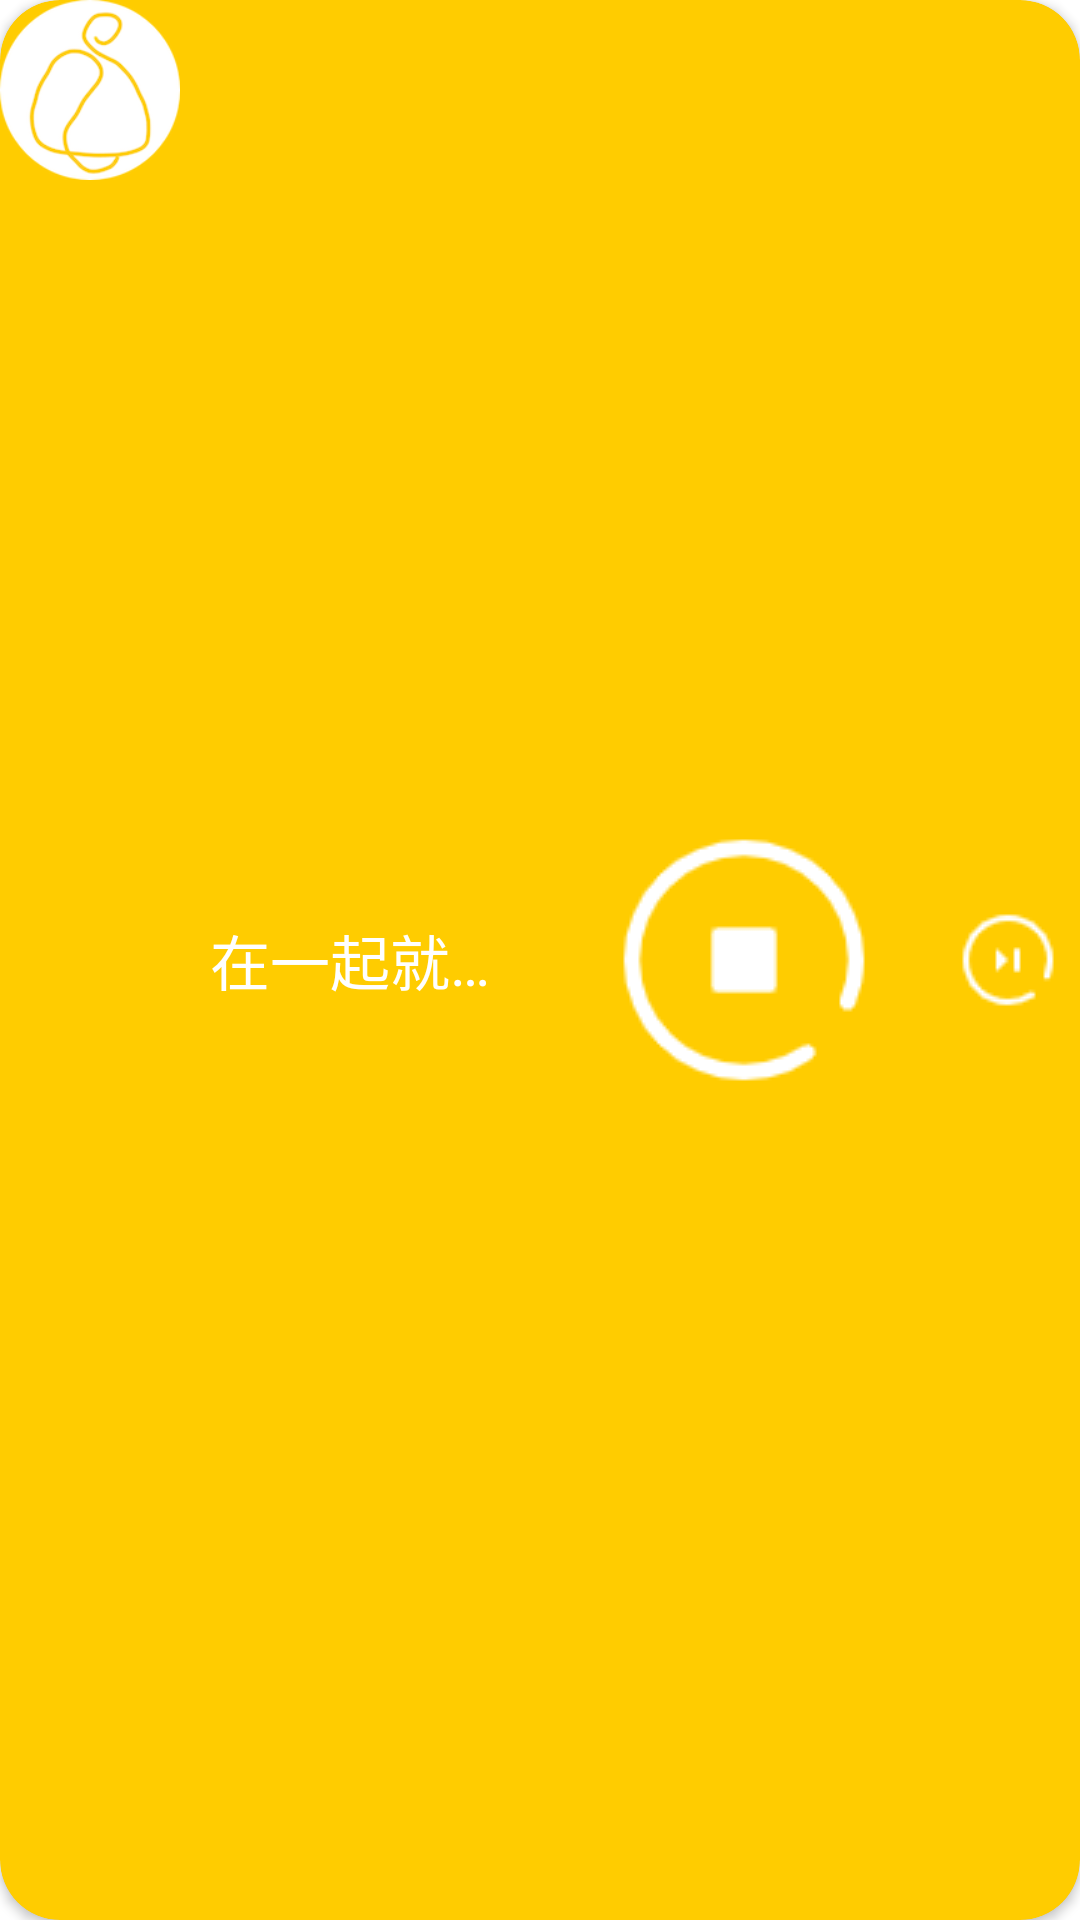

Icon bounding boxes for this 1080w x 1920h phone screenshot, format (x1, y1, x2, y2):
next song: (962, 914, 1054, 1006)
play stop: (623, 839, 865, 1081)
